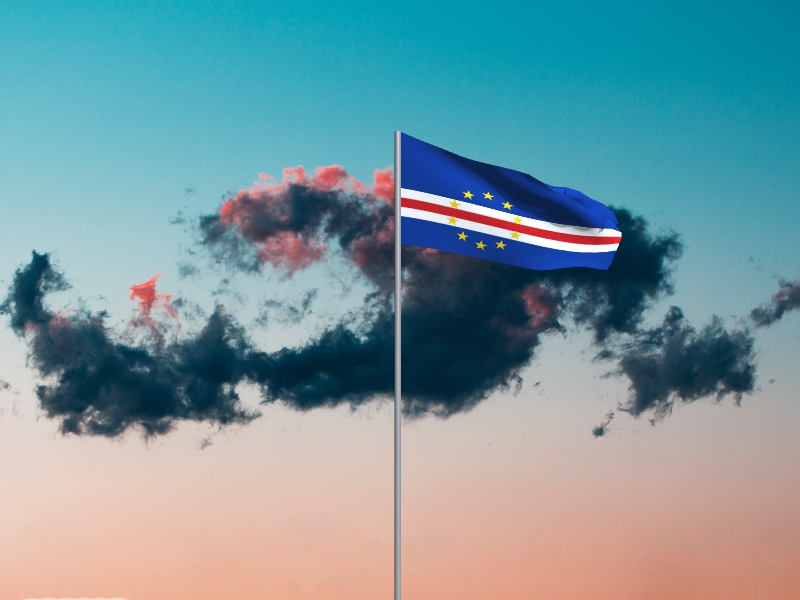cv: (402, 133, 624, 271)
